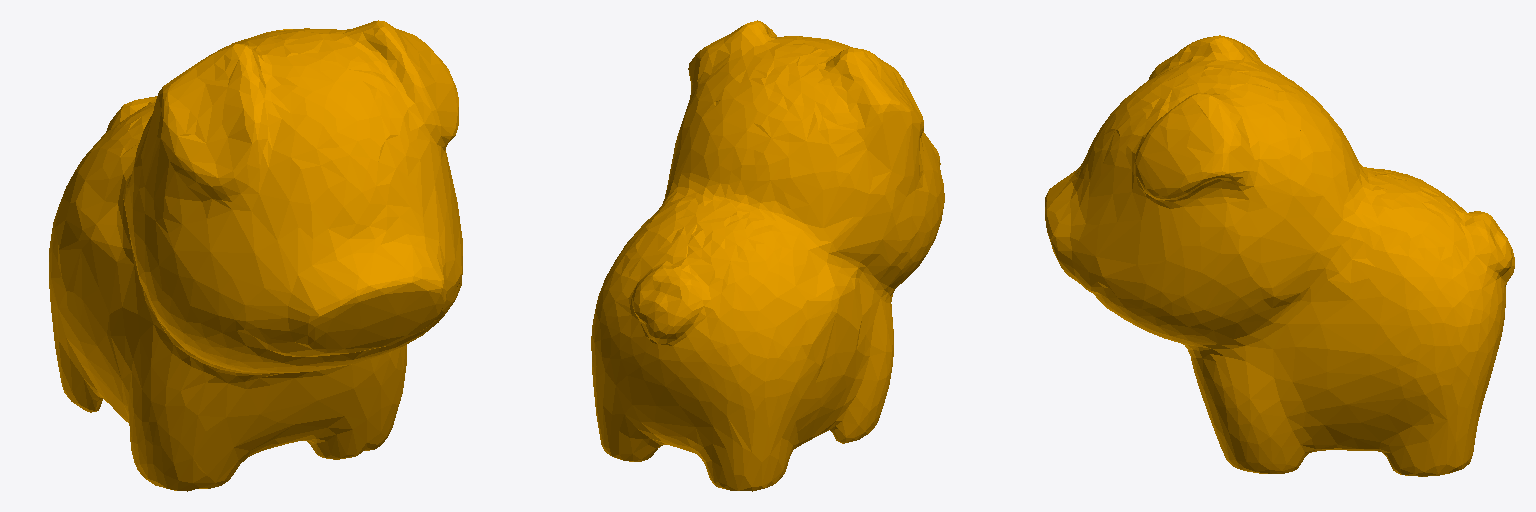
URDF robot description (2626okj4):
<?xml version='1.0'?>

<robot name="2626okj4">
    <static>false</static>
    <link name="link">
        <inertial>
            <mass value="0.1287540236339971"/>
            <inertia ixx="0.00018562438574552356" ixy="-3.7064683664050764e-06" ixz="5.716502799089558e-07"
                     iyy="0.00012404201957598267" iyz="4.055714329742217e-05" izz="0.00014234338921137953"/>
        </inertial>
        <collision name="collision">
            <geometry>
                <mesh filename="package://miscnet/train/2626okj4/collision_model_vhacd.obj"/>
            </geometry>
        </collision>
        <visual name="visual">
            <geometry>
                <mesh filename="package://miscnet/train/2626okj4/visual_model.obj"/>
            </geometry>
        </visual>
    </link>
</robot>

--- Render facts (derived) ---
Views: 3 orthographic renders of the robot side by side, from view 1: azimuth 30°, elevation 25°; view 2: azimuth 150°, elevation 25°; view 3: azimuth 270°, elevation 25°.
Model 2626okj4 with 1 links and 0 joints (none), rooted at link, posed all joints at 0.
Links seen in each view (by area): view 1: link; view 2: link; view 3: link.
Boxes of the visible links, left/top/right/bottom form: link: left=49, top=20, right=462, bottom=491; link: left=591, top=20, right=944, bottom=491; link: left=1045, top=35, right=1514, bottom=476.
Size in the robot's own frame: 0.0759 by 0.1284 by 0.1122 metres.
Meshes: 1 distinct files referenced, 1 mesh visuals loaded (1 OBJ).
